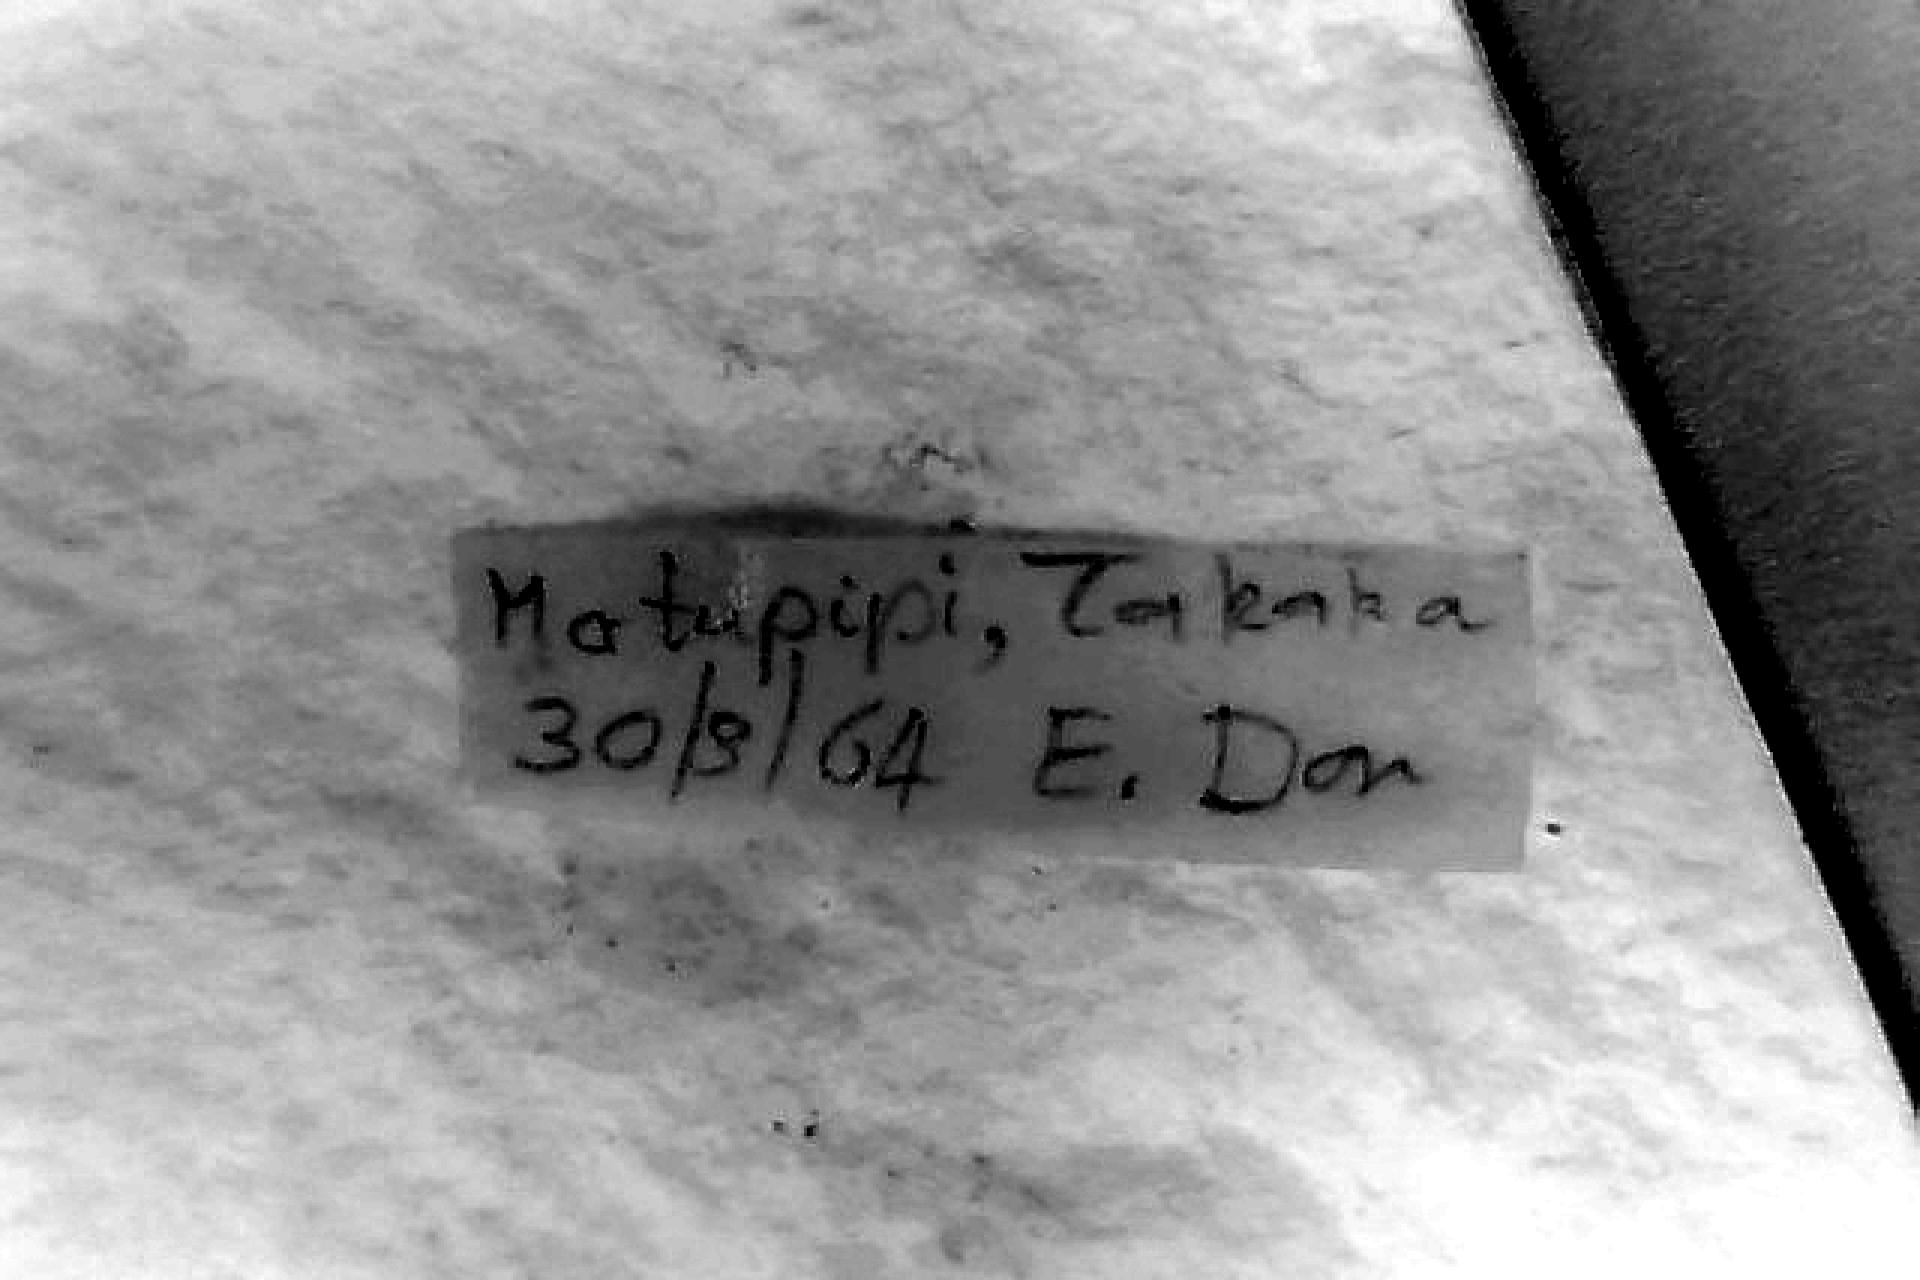hand_label: (457, 527, 1534, 869)
